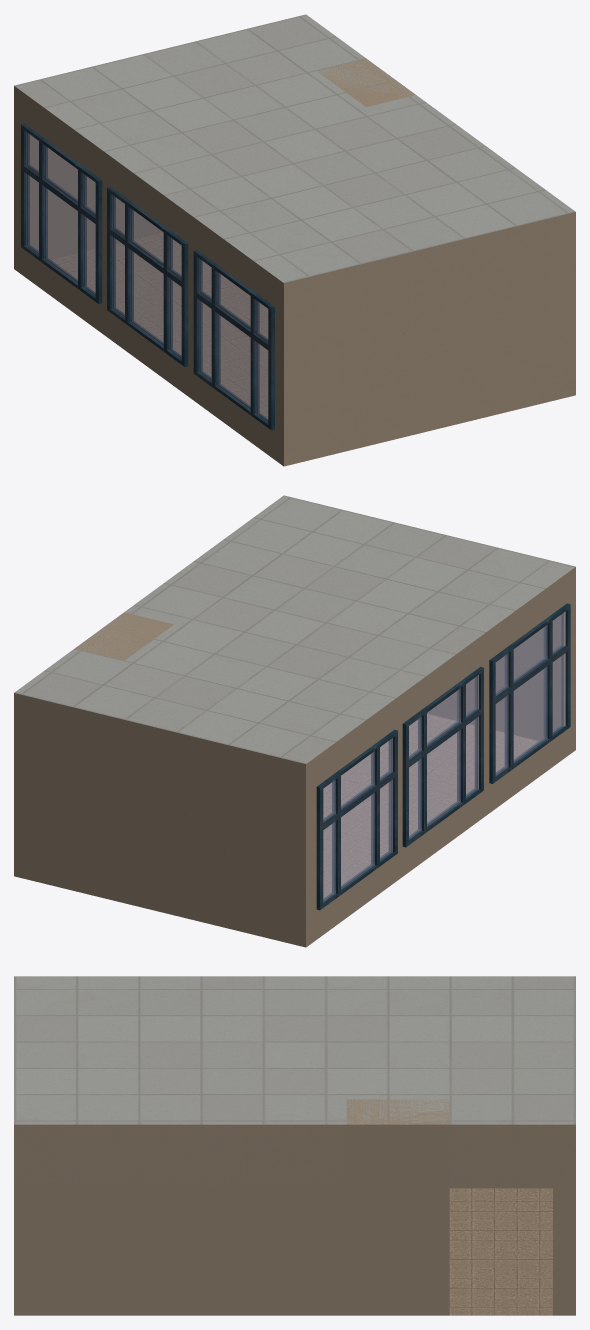
3 renders of one model, top to bottom at view 1: azimuth 30°, elevation 25°; view 2: azimuth 150°, elevation 25°; view 3: azimuth 270°, elevation 25°, orthographic. The views are drawn at different scales.
Parts seen in each view (by area): view 1: L203, L203_Techo, L203_Ventanas, L203_Piso; view 2: L203, L203_Techo, L203_Ventanas, L203_Piso; view 3: L203, L203_Techo, L203_Piso.
Boxes of the visible parts, box(x1,y1,x2,y2) form: L203: box(14, 58, 575, 466); L203_Techo: box(14, 14, 575, 282); L203_Ventanas: box(21, 123, 274, 430); L203_Piso: box(51, 233, 268, 418); L203: box(14, 567, 575, 947); L203_Techo: box(14, 495, 575, 763); L203_Ventanas: box(316, 603, 570, 910); L203_Piso: box(323, 714, 538, 898); L203: box(14, 1099, 575, 1315); L203_Techo: box(14, 976, 575, 1124); L203_Piso: box(449, 1188, 552, 1315).
Bounding box in the file's own units: 506 × 300 × 800.
